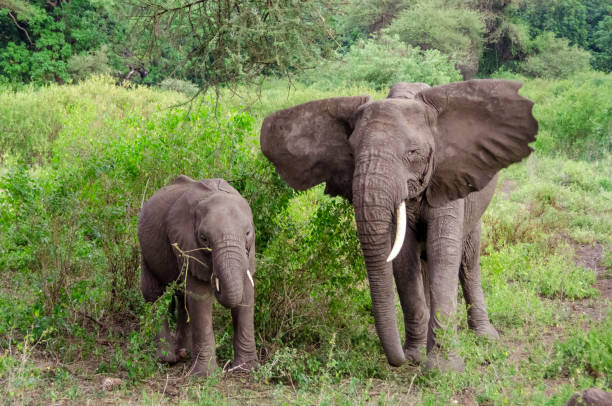africanelephant: (321, 88, 471, 270)
